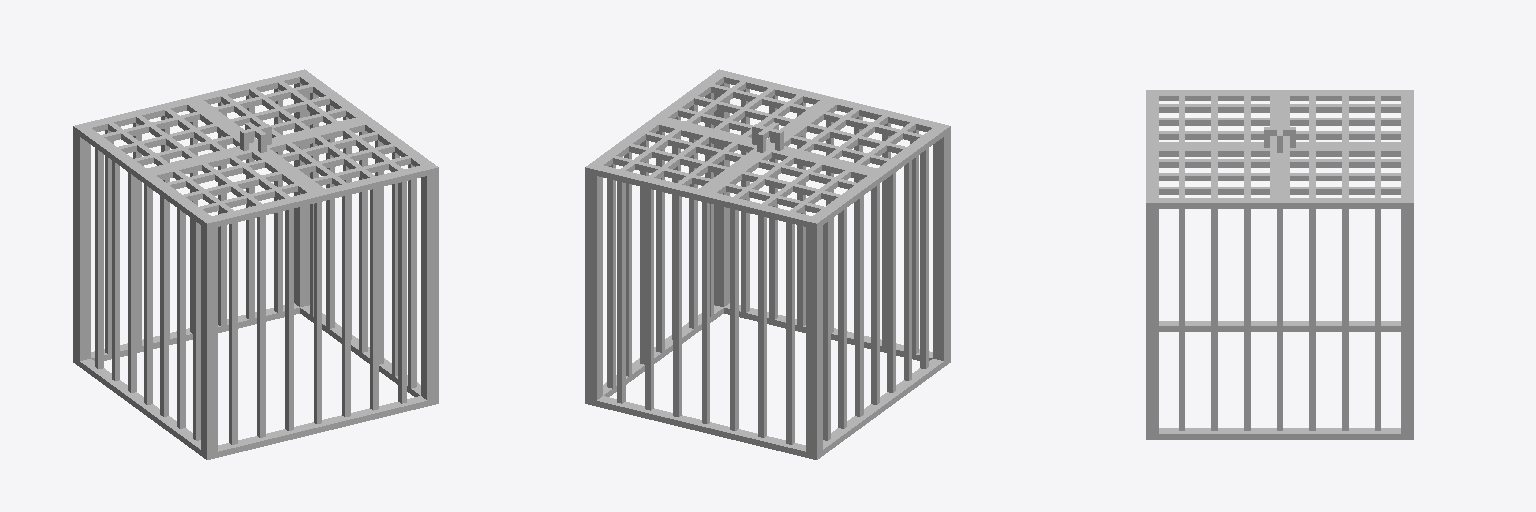
Rendered from Cage.obj.
The picture shows the model from 3 angles: view 1: azimuth 30°, elevation 25°; view 2: azimuth 150°, elevation 25°; view 3: azimuth 270°, elevation 25°; orthographic projection.
Visible parts, largest first — view 1: Cage; view 2: Cage; view 3: Cage.
Part boxes in pixels (x1,y1,x2,y2): Cage: (73, 69, 438, 459); Cage: (585, 69, 950, 459); Cage: (1146, 90, 1413, 439).
Size of the model in its own units: 4.1 by 4.3 by 4.1.